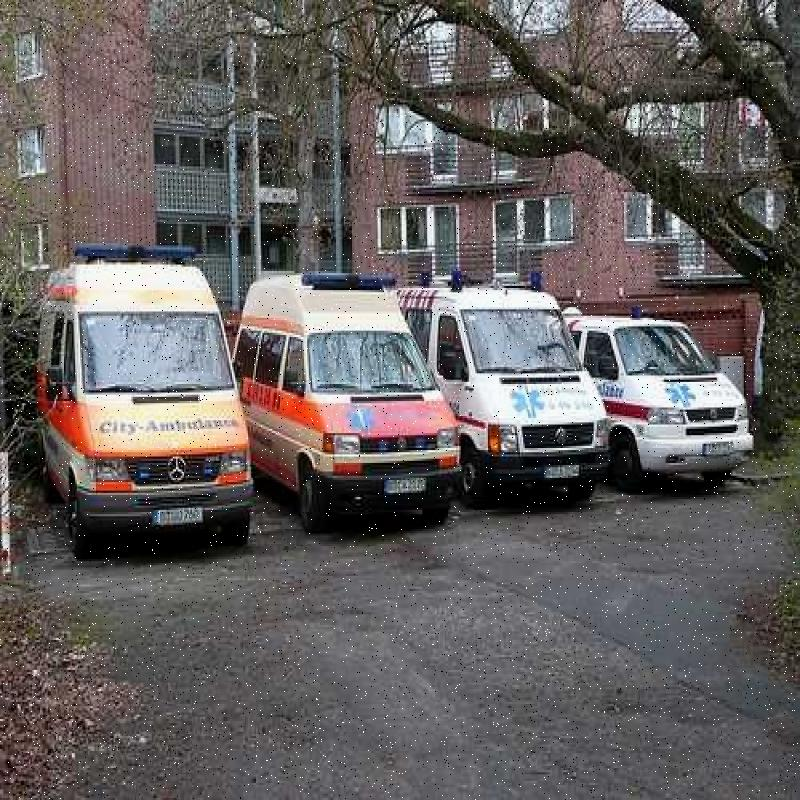AmbulanceSiren: (71, 237, 197, 271), (298, 264, 398, 296)
